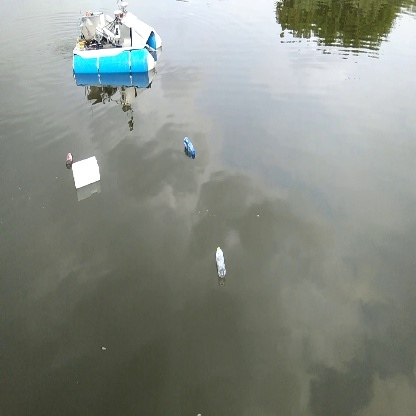bottle: (214, 244, 230, 280), (181, 135, 201, 160)
plastic-garbage: (71, 155, 103, 192)
